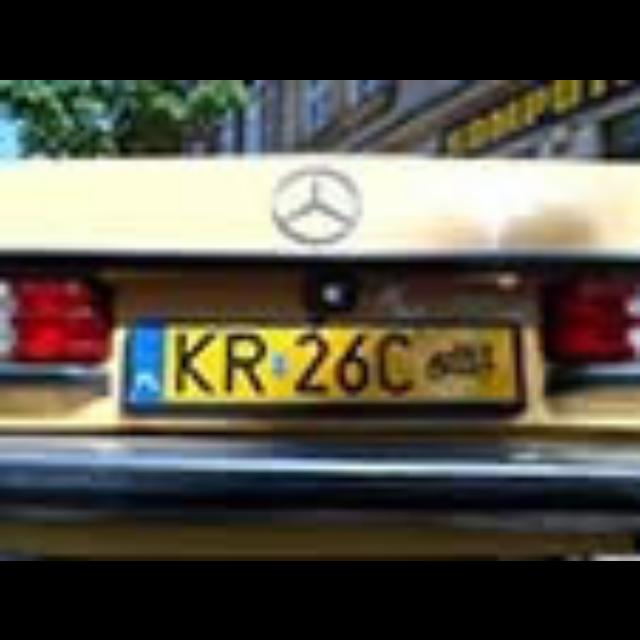pl_license_plate: (124, 317, 510, 401)
